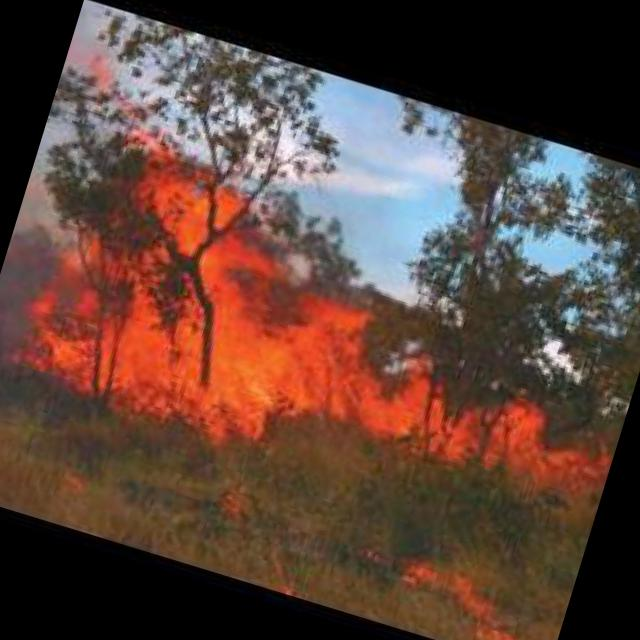fire: (19, 104, 640, 545), (387, 555, 533, 640)
